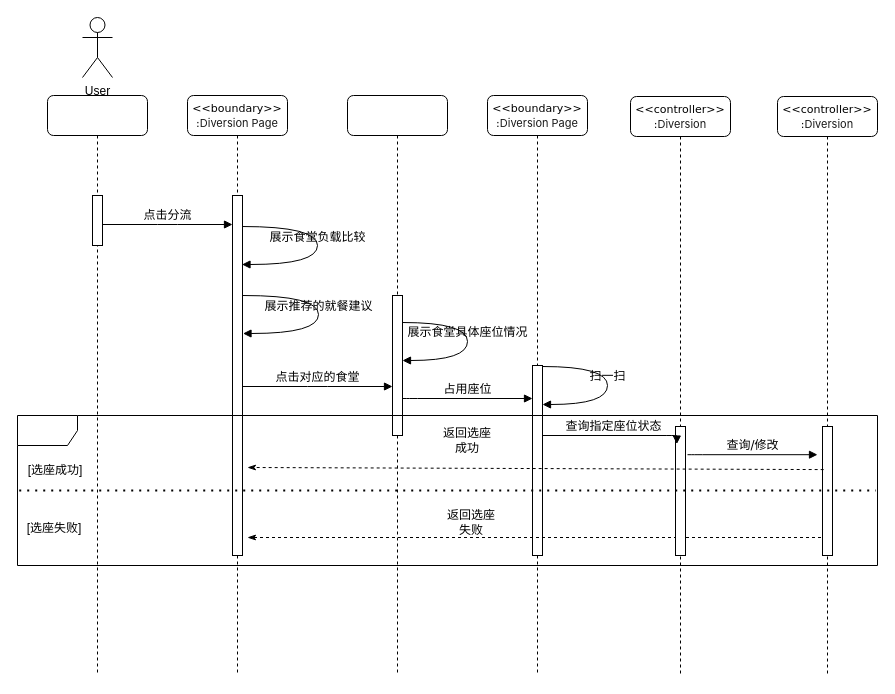
Image size: 895x694. Some labels were removed from this diagram. Each missing label, with the box of its shape:
<<boundary>> : Details Page: (346, 94, 448, 676)
<<boundary>> : Home Page: (46, 94, 148, 676)
Alt: (16, 414, 878, 566)
